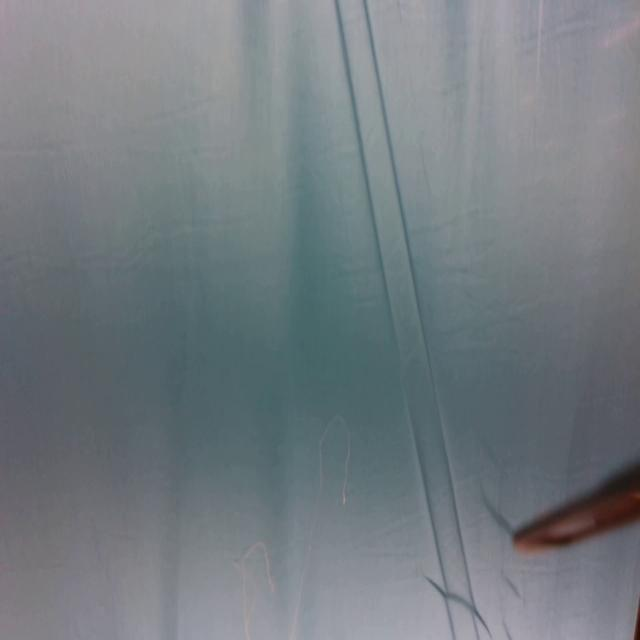crease: (335, 1, 485, 640)
